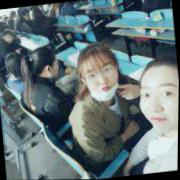NONE: (138, 71, 179, 136)
WRONG: (82, 57, 121, 103)
